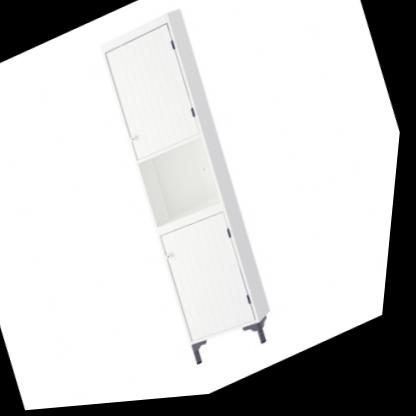Cabinet: (67, 0, 316, 391)
